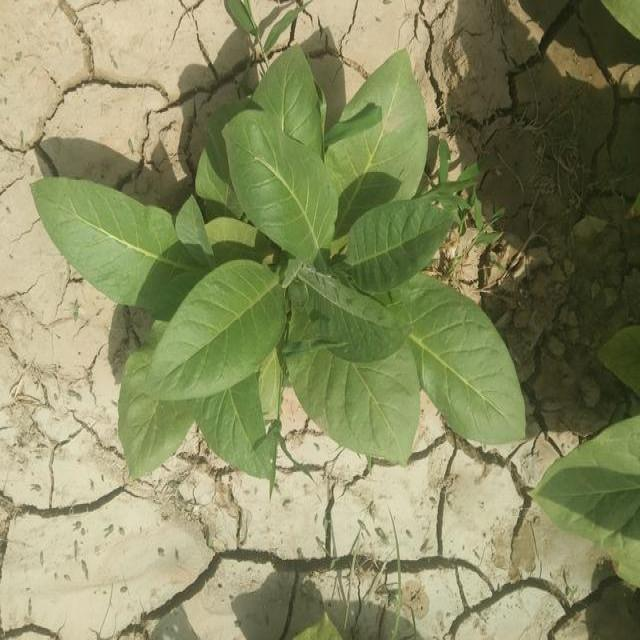crop: (36, 46, 540, 463), (537, 428, 640, 587), (590, 0, 640, 72), (294, 603, 364, 640), (607, 326, 640, 404)
